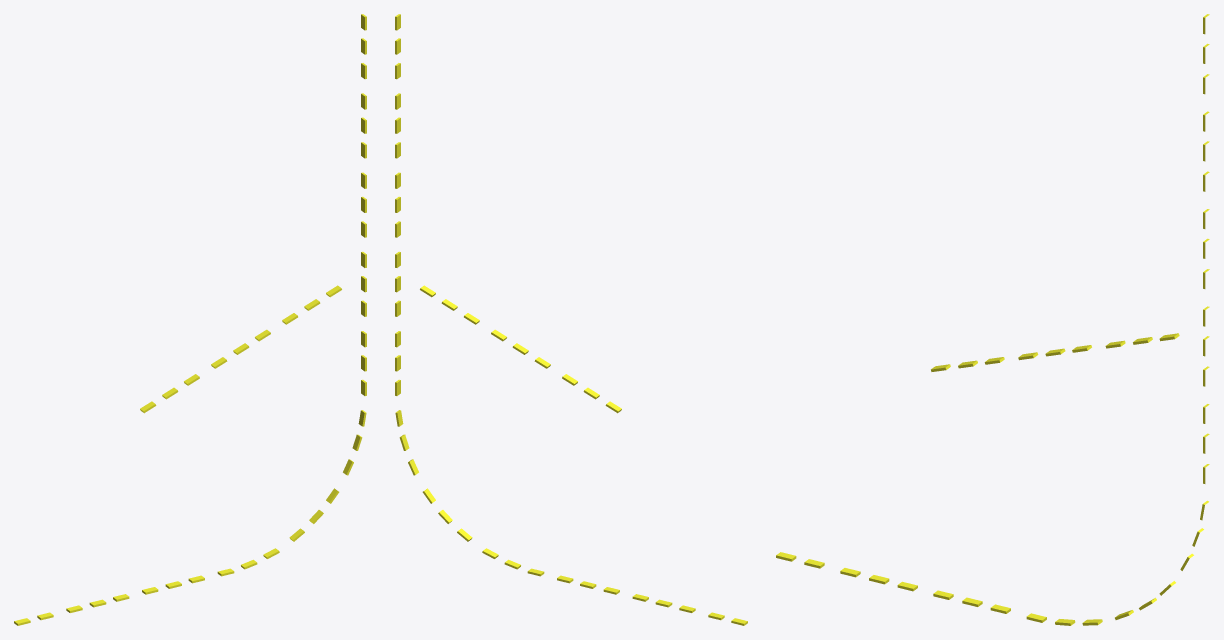
The model's file is LED.glb.
The picture shows the model from 3 angles, left to right: view 1: azimuth 30°, elevation 25°; view 2: azimuth 150°, elevation 25°; view 3: azimuth 330°, elevation 25°; orthographic projection. The views are drawn at different scales.
Visible parts, largest first — view 1: Mesh_1; view 2: Mesh_1; view 3: Mesh_1.
Boxes of the visible parts, x1,y1,x2,y2 form: Mesh_1: (14, 14, 366, 625); Mesh_1: (395, 14, 747, 625); Mesh_1: (776, 14, 1209, 625).
Size of the model in its own units: 30.7 by 44.07 by 0.5671.
